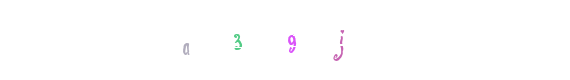3: (198, 0, 278, 80)
9: (245, 0, 325, 80)
A: (193, 0, 273, 80)
J: (274, 0, 354, 80)
